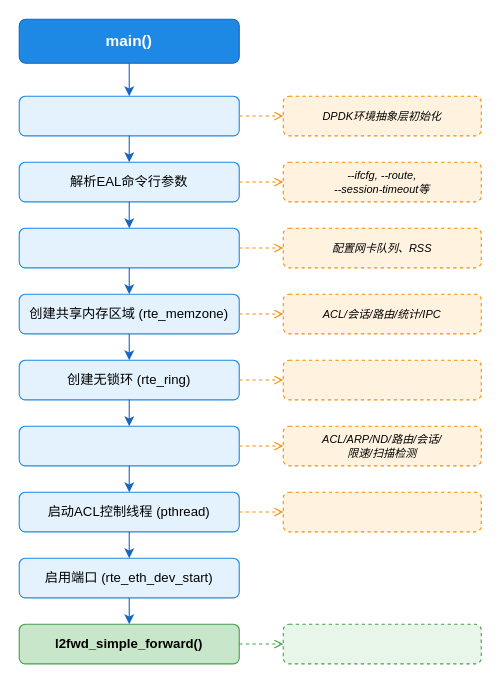
Some shapes in this 501 by 683 pixel diagram are drawn without their labels. Each missing label, with the box of its shape:
ACL命令/响应环: (282, 359, 481, 400)
rte_eal_init(): (18, 95, 239, 136)
初始化各子系统: (18, 425, 239, 466)
初始化端口 (port_init): (18, 227, 239, 268)
处理ACL规则更新: (282, 491, 481, 532)
每lcore运行: (282, 623, 481, 664)
